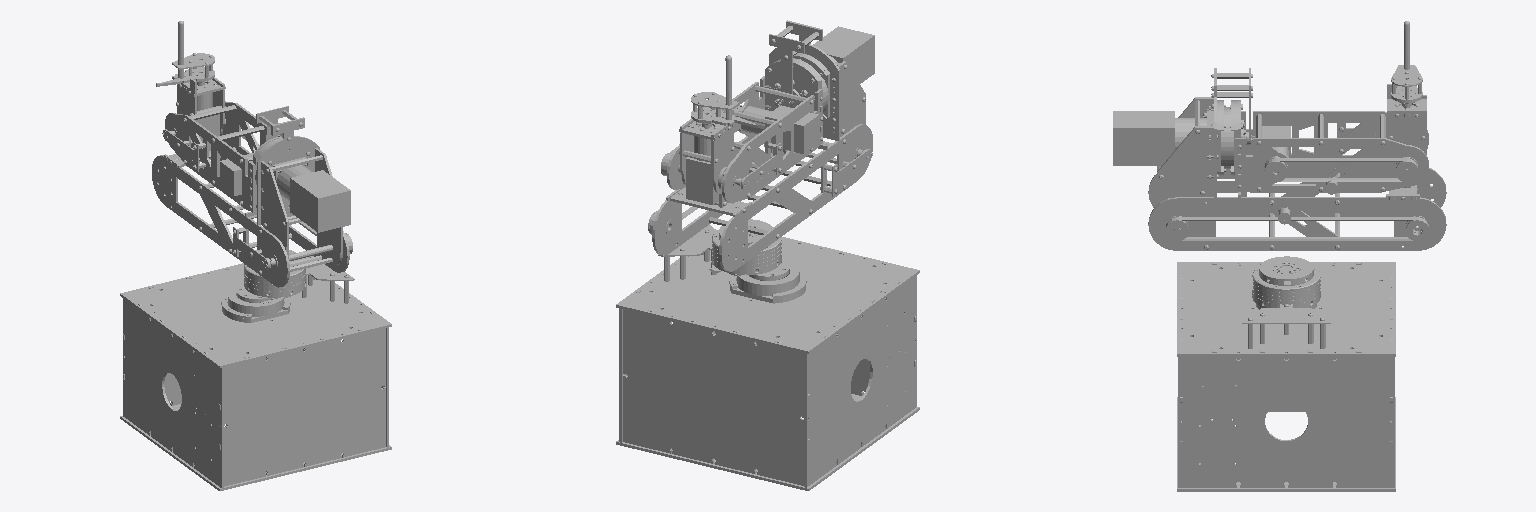
URDF robot description (urdf5):
<?xml version="1.0" encoding="utf-8"?>
<!-- This URDF was automatically created by SolidWorks to URDF Exporter! Originally created by [author] ([email redacted]) 
     Commit Version: 1.6.0-1-g15f4949  Build Version: 1.6.7594.29634
     For more information, please see http://wiki.ros.org/sw_urdf_exporter -->
<robot
  name="urdf5">
  <link
    name="base_link">
    <inertial>
      <origin
        xyz="-0.148986129229925 0.150021017863698 -0.0759004716252227"
        rpy="0 0 0" />
      <mass
        value="1.9822116757835" />
      <inertia
        ixx="0.0120490324410393"
        ixy="1.15659796038638E-08"
        ixz="1.81324632114312E-07"
        iyy="0.0116408766392637"
        iyz="1.74553276479889E-07"
        izz="0.0160089893201742" />
    </inertial>
    <visual>
      <origin
        xyz="0 0 0"
        rpy="0 0 0" />
      <geometry>
        <mesh
          filename="package://urdf5/meshes/base_link.STL" />
      </geometry>
      <material
        name="">
        <color
          rgba="0.752941176470588 0.752941176470588 0.752941176470588 1" />
      </material>
    </visual>
    <collision>
      <origin
        xyz="0 0 0"
        rpy="0 0 0" />
      <geometry>
        <mesh
          filename="package://urdf5/meshes/base_link.STL" />
      </geometry>
    </collision>
  </link>
  <link
    name="link1">
    <inertial>
      <origin
        xyz="-0.00138647227863142 0.152755471038628 0.0886526523128479"
        rpy="0 0 0" />
      <mass
        value="1.3754970572863" />
      <inertia
        ixx="0.00173108362628093"
        ixy="4.62857423065551E-06"
        ixz="5.00138739553578E-06"
        iyy="0.00252099075579552"
        iyz="-0.000280725672965726"
        izz="0.00300469403308651" />
    </inertial>
    <visual>
      <origin
        xyz="0 0 0"
        rpy="0 0 0" />
      <geometry>
        <mesh
          filename="package://urdf5/meshes/link1.STL" />
      </geometry>
      <material
        name="">
        <color
          rgba="0.752941176470588 0.752941176470588 0.752941176470588 1" />
      </material>
    </visual>
    <collision>
      <origin
        xyz="0 0 0"
        rpy="0 0 0" />
      <geometry>
        <mesh
          filename="package://urdf5/meshes/link1.STL" />
      </geometry>
    </collision>
  </link>
  <joint
    name="joint1"
    type="revolute">
    <origin
      xyz="-0.15 0.15 0.0375"
      rpy="0 0 0" />
    <parent
      link="base_link" />
    <child
      link="link1" />
    <axis
      xyz="0 0 1" />
    <limit
      lower="0"
      upper="0"
      effort="0"
      velocity="0" />
  </joint>
  <link
    name="link2">
    <inertial>
      <origin
        xyz="-0.171711809073031 -0.00225253427799865 0.0377090138365824"
        rpy="0 0 0" />
      <mass
        value="0.298697248656124" />
      <inertia
        ixx="0.000169529364437363"
        ixy="5.27005555183899E-06"
        ixz="-9.09781491999747E-13"
        iyy="0.00296834055119493"
        iyz="-8.84351300819827E-13"
        izz="0.00304993765212094" />
    </inertial>
    <visual>
      <origin
        xyz="0 0 0"
        rpy="0 0 0" />
      <geometry>
        <mesh
          filename="package://urdf5/meshes/link2.STL" />
      </geometry>
      <material
        name="">
        <color
          rgba="0.752941176470588 0.752941176470588 0.752941176470588 1" />
      </material>
    </visual>
    <collision>
      <origin
        xyz="0 0 0"
        rpy="0 0 0" />
      <geometry>
        <mesh
          filename="package://urdf5/meshes/link2.STL" />
      </geometry>
    </collision>
  </link>
  <joint
    name="joint2"
    type="revolute">
    <origin
      xyz="0.0495 0.18 0.118"
      rpy="-1.5708 0 1.5708" />
    <parent
      link="link1" />
    <child
      link="link2" />
    <axis
      xyz="0 0 -1" />
    <limit
      lower="0"
      upper="0"
      effort="0"
      velocity="0" />
  </joint>
  <link
    name="link3">
    <inertial>
      <origin
        xyz="0.00521971563514806 -0.100681072108409 -0.0449979900166703"
        rpy="0 0 0" />
      <mass
        value="0.693258188757553" />
      <inertia
        ixx="0.000643043619166393"
        ixy="3.0941392932458E-05"
        ixz="-7.90774766842533E-09"
        iyy="0.000972805898757043"
        iyz="-6.28413478445623E-09"
        izz="0.00117482059502662" />
    </inertial>
    <visual>
      <origin
        xyz="0 0 0"
        rpy="0 0 0" />
      <geometry>
        <mesh
          filename="package://urdf5/meshes/link3.STL" />
      </geometry>
      <material
        name="">
        <color
          rgba="0.752941176470588 0.752941176470588 0.752941176470588 1" />
      </material>
    </visual>
    <collision>
      <origin
        xyz="0 0 0"
        rpy="0 0 0" />
      <geometry>
        <mesh
          filename="package://urdf5/meshes/link3.STL" />
      </geometry>
    </collision>
  </link>
  <joint
    name="joint3"
    type="revolute">
    <origin
      xyz="-0.33 -0.00015681 0.095"
      rpy="0 0 0" />
    <parent
      link="link2" />
    <child
      link="link3" />
    <axis
      xyz="0 0 -1" />
    <limit
      lower="0"
      upper="0"
      effort="0"
      velocity="0" />
  </joint>
  <link
    name="link4">
    <inertial>
      <origin
        xyz="0.0020304 0.018808 0.072716"
        rpy="0 0 0" />
      <mass
        value="0.43855" />
      <inertia
        ixx="0.0009677"
        ixy="1.2408E-08"
        ixz="-8.7228E-13"
        iyy="0.00096859"
        iyz="5.1704E-06"
        izz="0.00033754" />
    </inertial>
    <visual>
      <origin
        xyz="0 0 0"
        rpy="0 0 0" />
      <geometry>
        <mesh
          filename="package://urdf5/meshes/link4.STL" />
      </geometry>
      <material
        name="">
        <color
          rgba="0.75294 0.75294 0.75294 1" />
      </material>
    </visual>
    <collision>
      <origin
        xyz="0 0 0"
        rpy="0 0 0" />
      <geometry>
        <mesh
          filename="package://urdf5/meshes/link4.STL" />
      </geometry>
    </collision>
  </link>
  <joint
    name="joint4"
    type="revolute">
    <origin
      xyz="0.091491 -0.10584 -0.045"
      rpy="0 1.5708 0" />
    <parent
      link="link3" />
    <child
      link="link4" />
    <axis
      xyz="0 0 1" />
    <limit
      lower="0"
      upper="0"
      effort="0"
      velocity="0" />
  </joint>
  <link
    name="link5">
    <inertial>
      <origin
        xyz="7.4642E-05 -0.018439 -0.032488"
        rpy="0 0 0" />
      <mass
        value="0.2392" />
      <inertia
        ixx="0.00018859"
        ixy="9.6096E-07"
        ixz="-1.4516E-09"
        iyy="5.6612E-05"
        iyz="-1.1347E-08"
        izz="0.00020112" />
    </inertial>
    <visual>
      <origin
        xyz="0 0 0"
        rpy="0 0 0" />
      <geometry>
        <mesh
          filename="package://urdf5/meshes/link5.STL" />
      </geometry>
      <material
        name="">
        <color
          rgba="0.75294 0.75294 0.75294 1" />
      </material>
    </visual>
    <collision>
      <origin
        xyz="0 0 0"
        rpy="0 0 0" />
      <geometry>
        <mesh
          filename="package://urdf5/meshes/link5.STL" />
      </geometry>
    </collision>
  </link>
  <joint
    name="joint5"
    type="revolute">
    <origin
      xyz="0.0305 0.02185 0.224"
      rpy="0 1.5708 0" />
    <parent
      link="link4" />
    <child
      link="link5" />
    <axis
      xyz="0 0 1" />
    <limit
      lower="0"
      upper="0"
      effort="0"
      velocity="0" />
  </joint>
  <link
    name="link6">
    <inertial>
      <origin
        xyz="0.017164 0.00018833 0.020914"
        rpy="0 0 0" />
      <mass
        value="0.021655" />
      <inertia
        ixx="6.5964E-06"
        ixy="-1.7068E-07"
        ixz="-4.8605E-22"
        iyy="1.0789E-05"
        iyz="8.5813E-21"
        izz="7.0208E-06" />
    </inertial>
    <visual>
      <origin
        xyz="0 0 0"
        rpy="0 0 0" />
      <geometry>
        <mesh
          filename="package://urdf5/meshes/link6.STL" />
      </geometry>
      <material
        name="">
        <color
          rgba="0.75294 0.75294 0.75294 1" />
      </material>
    </visual>
    <collision>
      <origin
        xyz="0 0 0"
        rpy="0 0 0" />
      <geometry>
        <mesh
          filename="package://urdf5/meshes/link6.STL" />
      </geometry>
    </collision>
  </link>
  <joint
    name="joint6"
    type="revolute">
    <origin
      xyz="0 -0.086 -0.0305"
      rpy="1.5708 1.5708 0" />
    <parent
      link="link5" />
    <child
      link="link6" />
    <axis
      xyz="0 0 1" />
    <limit
      lower="0"
      upper="0"
      effort="0"
      velocity="0" />
  </joint>
  <link
    name="gripper">
    <inertial>
      <origin
        xyz="-0.001 -0.001 0.001"
        rpy="0 0 0" />
      <mass
        value="8E-06" />
      <inertia
        ixx="5.3333E-12"
        ixy="8.3879E-29"
        ixz="-2.097E-29"
        iyy="5.3333E-12"
        iyz="-1.5536E-28"
        izz="5.3333E-12" />
    </inertial>
    <visual>
      <origin
        xyz="0 0 0"
        rpy="0 0 0" />
      <geometry>
        <mesh
          filename="package://urdf5/meshes/gripper.STL" />
      </geometry>
      <material
        name="">
        <color
          rgba="1 1 1 1" />
      </material>
    </visual>
    <collision>
      <origin
        xyz="0 0 0"
        rpy="0 0 0" />
      <geometry>
        <mesh
          filename="package://urdf5/meshes/gripper.STL" />
      </geometry>
    </collision>
  </link>
  <joint
    name="g"
    type="fixed">
    <origin
      xyz="0.078254 0.001 0.004"
      rpy="0 0 -1.5708" />
    <parent
      link="link6" />
    <child
      link="gripper" />
    <axis
      xyz="0 0 0" />
  </joint>
</robot>

--- Facts derived from the render (not from the file) ---
The picture shows the robot from 3 angles, left to right: view 1: azimuth 30°, elevation 25°; view 2: azimuth 150°, elevation 25°; view 3: azimuth 270°, elevation 25°; orthographic projection.
Model urdf5 with 8 links and 7 joints (6 revolute, 1 fixed), rooted at base_link, posed every joint at zero.
Visible links, largest first — view 1: base_link, link3, link2, link4, link5, link6, link1; view 2: base_link, link2, link4, link3, link5, link6, link1; view 3: base_link, link2, link4, link3, link1, link5, link6.
Boxes of the visible links, <box> form: base_link: <box>120,256,391,490</box>; link3: <box>255,106,350,271</box>; link2: <box>152,140,352,287</box>; link4: <box>162,101,282,216</box>; link5: <box>169,77,226,150</box>; link6: <box>156,21,214,86</box>; link1: <box>244,250,305,303</box>; base_link: <box>616,224,919,490</box>; link2: <box>648,124,872,271</box>; link4: <box>661,58,827,203</box>; link3: <box>769,20,874,163</box>; link5: <box>678,109,741,207</box>; link6: <box>691,55,757,127</box>; link1: <box>709,219,781,276</box>; base_link: <box>1177,262,1395,491</box>; link2: <box>1148,167,1446,250</box>; link4: <box>1230,100,1428,198</box>; link3: <box>1113,68,1254,204</box>; link1: <box>1252,256,1320,307</box>; link5: <box>1387,84,1426,187</box>; link6: <box>1391,21,1422,103</box>.
Bounding box of the posed robot: 0.3 × 0.458 × 0.6286 m (x, y, z).
Meshes: 8 distinct files referenced, 8 mesh visuals loaded (8 binary STL).
